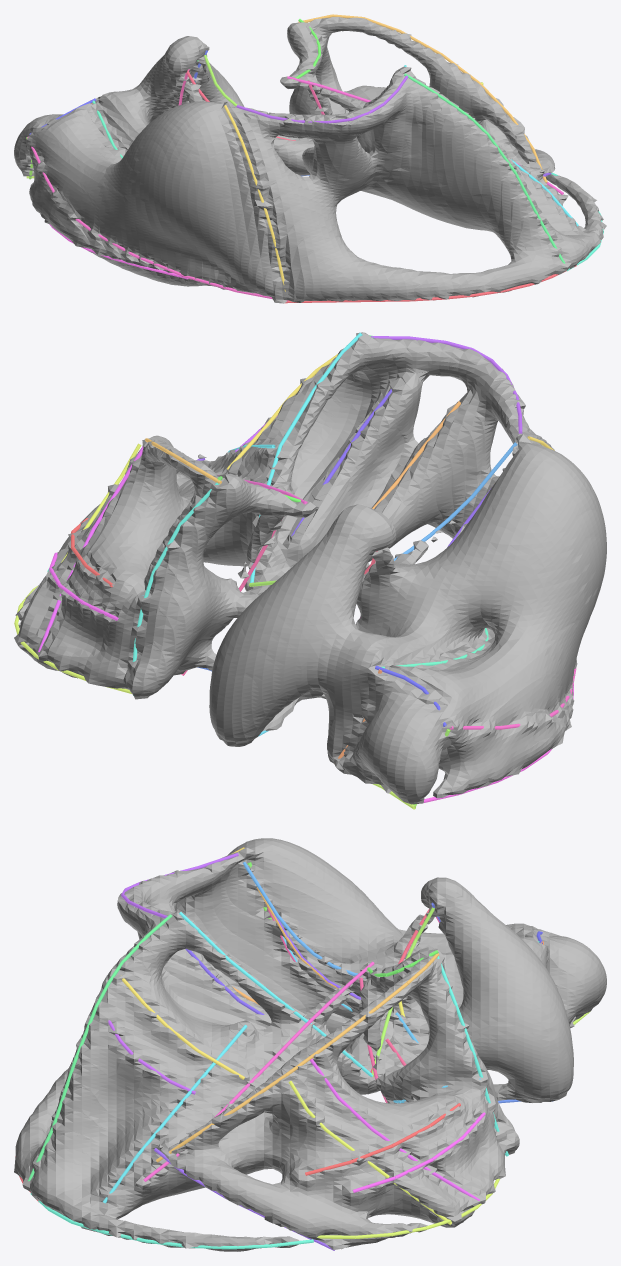
File: author1_building.gltf
The picture shows the model from 3 angles, top to bottom: view 1: azimuth 30°, elevation 25°; view 2: azimuth 150°, elevation 25°; view 3: azimuth 270°, elevation 25°; orthographic projection. The views are drawn at different scales.
Size of the model in its own units: 0.7019 by 0.3299 by 0.6823.
